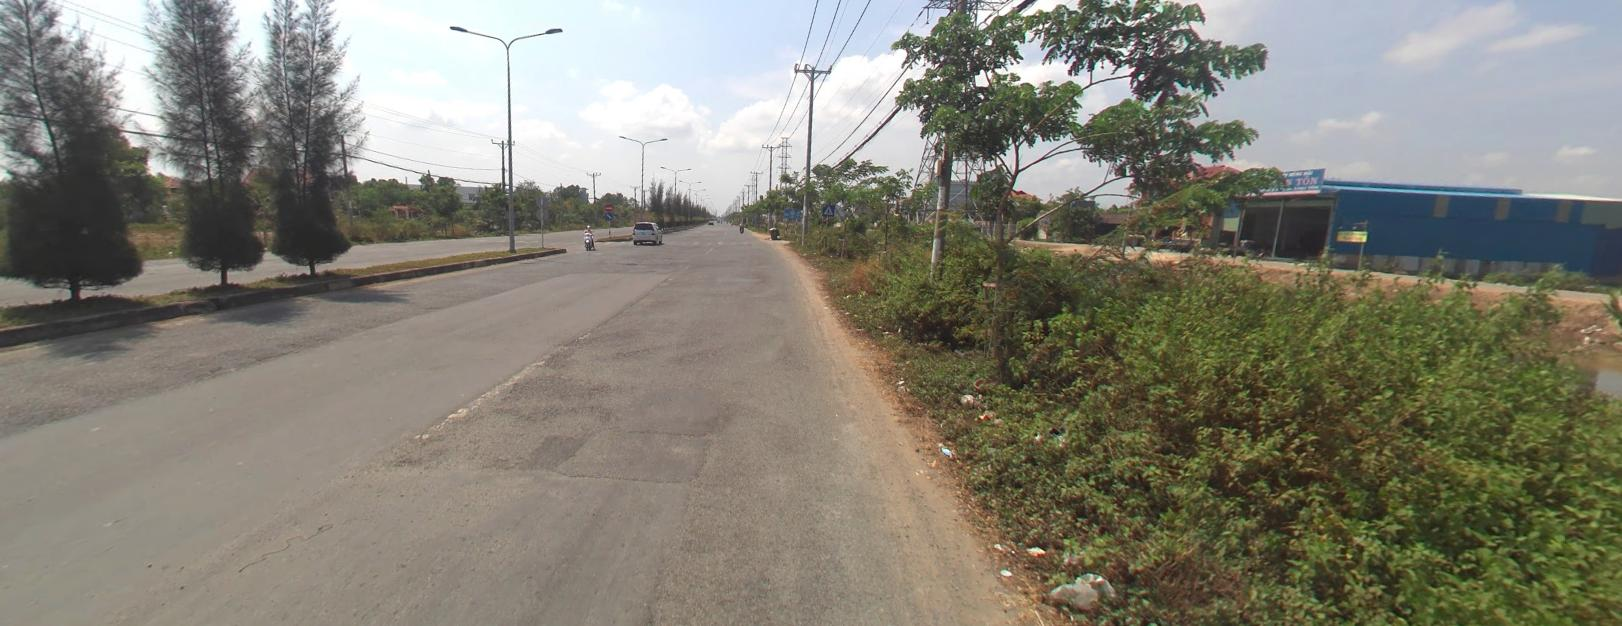Cam nguoc chieu: (604, 202, 612, 210)
Hieu lenh: (604, 211, 612, 218)
